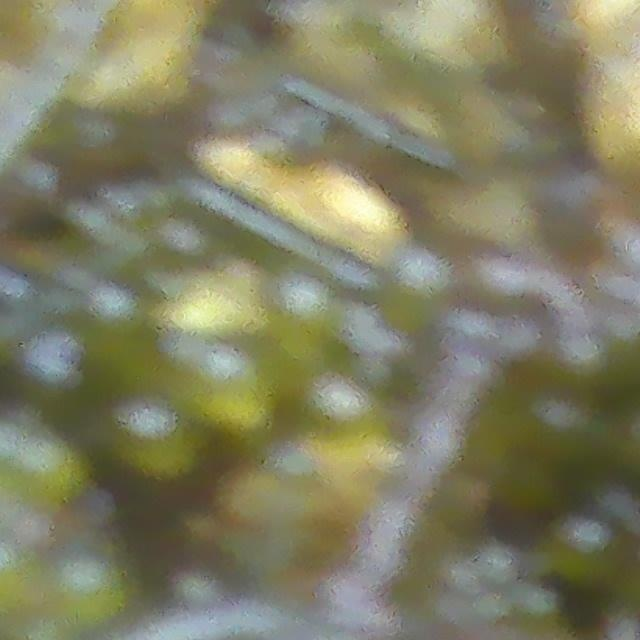SeaGrape: (46, 545, 136, 634)
